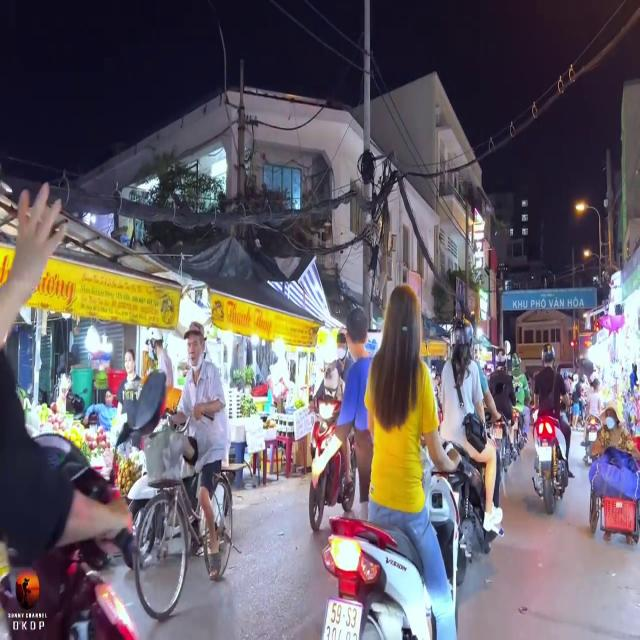bien_trang: (320, 590, 362, 640)
